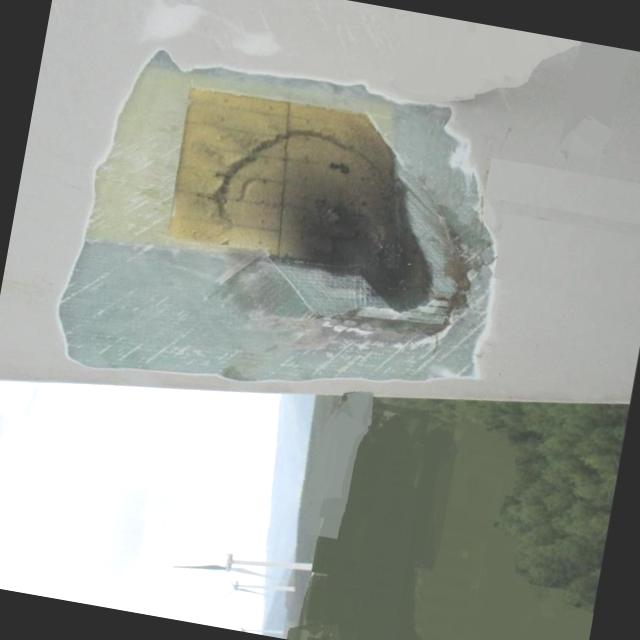crack: (194, 93, 468, 330)
surface_peeling: (45, 33, 228, 388), (178, 288, 492, 430)
